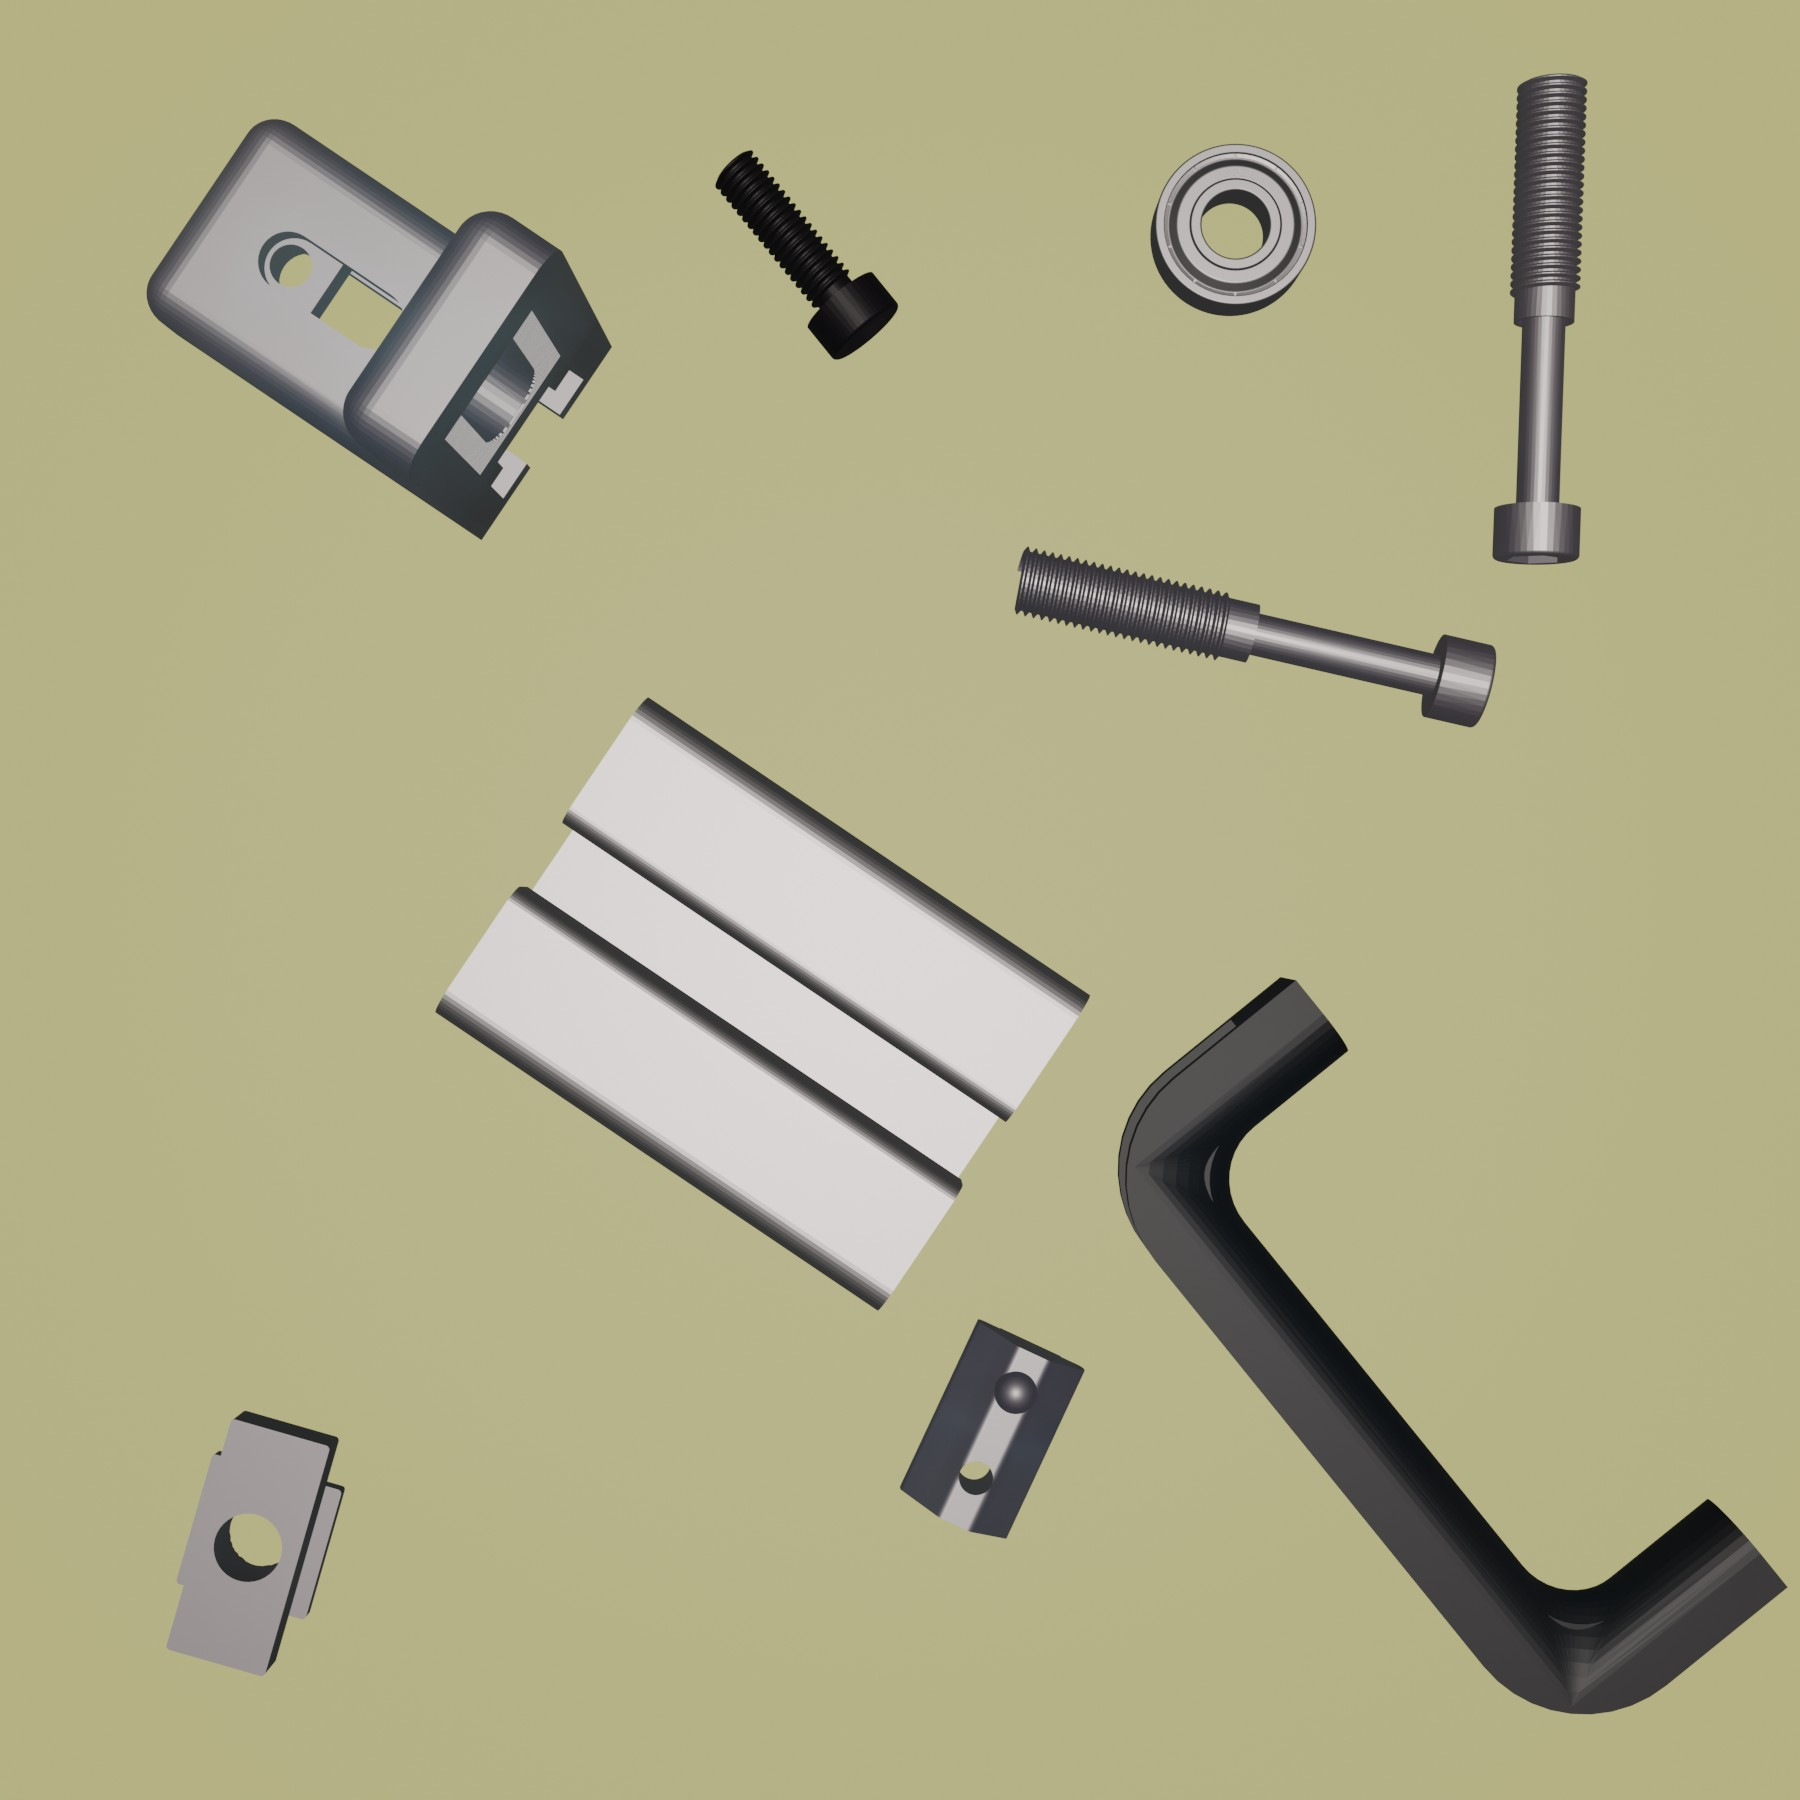Aluminium Extension: (430, 696, 1095, 1314)
Ball Bearing: (1147, 143, 1319, 318)
Multiwinkel: (143, 119, 615, 542)
Pull Handle: (1114, 973, 1788, 1716)
Shoulder Socket Head Cap Screw: (1010, 542, 1497, 730), (1490, 69, 1594, 569)
Socket Head Cap Screw: (712, 147, 900, 361)
T Nut Square: (163, 1404, 348, 1680)
T Spring Nut: (897, 1315, 1090, 1541)
